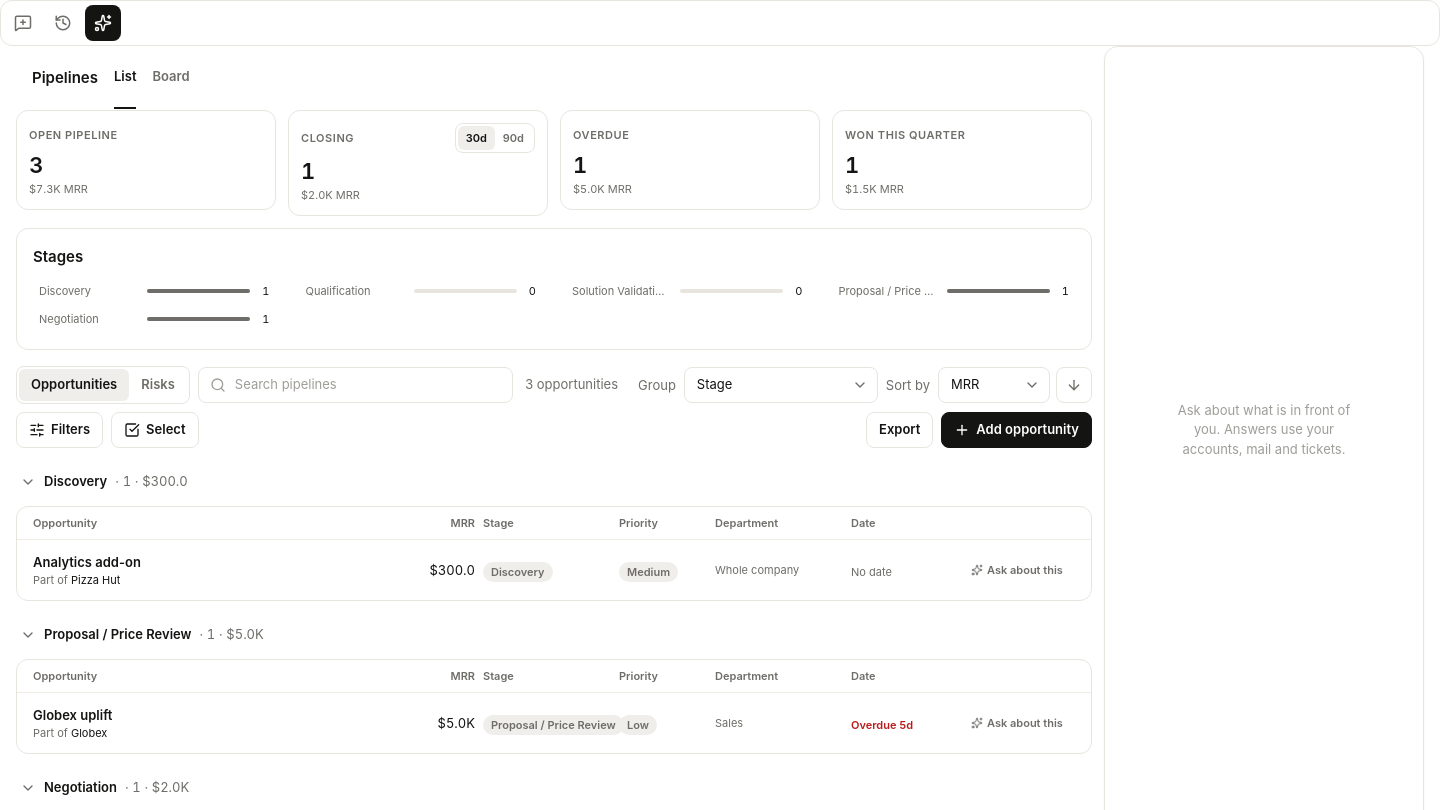
Test case: History on Pipelines › tags a risks conversation with the server's label and reopens it on the risks Board with its filters
What coordinates should you click on to do the following:
click the button named "History"
I would click on:
 (63, 23)
Its box is [45,5,81,41].
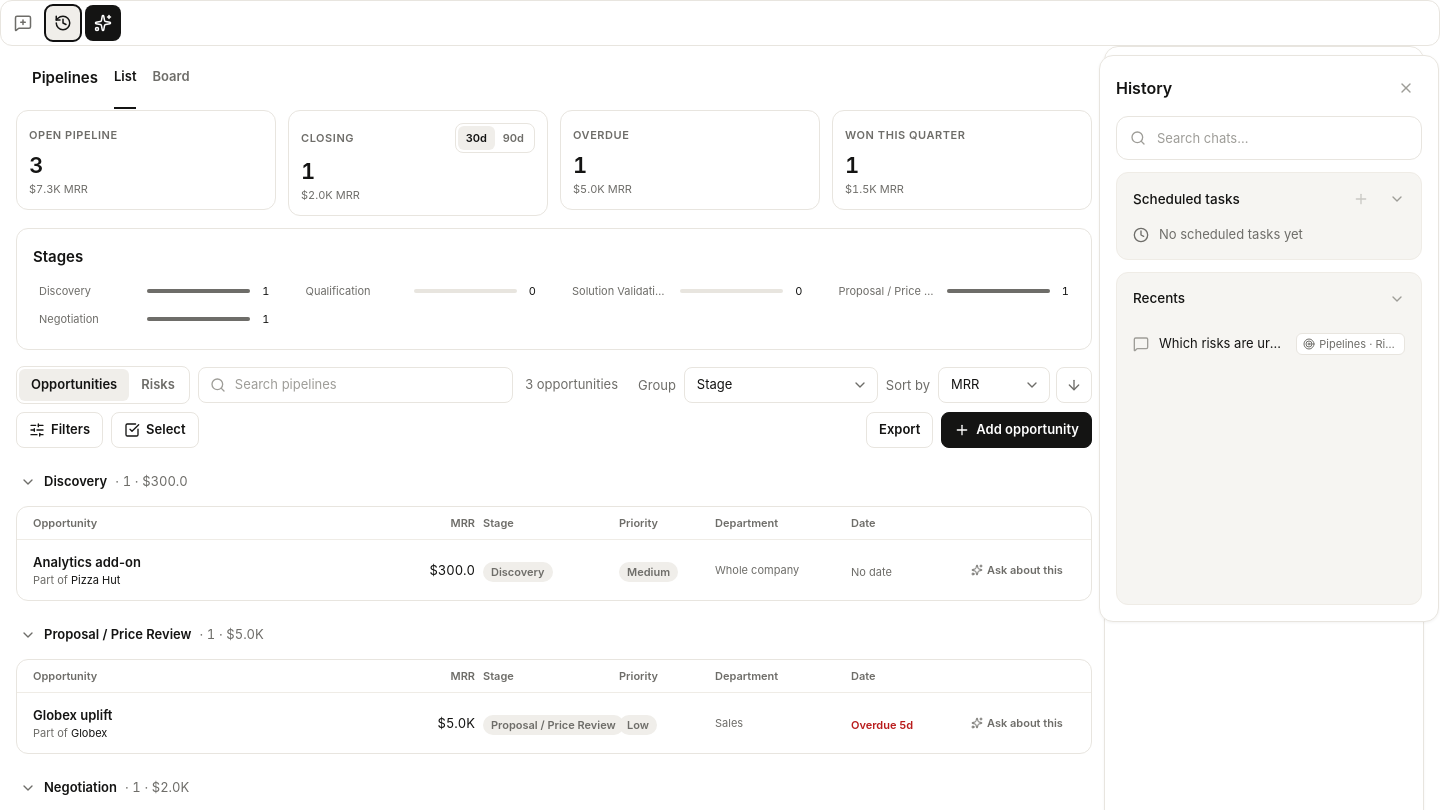
Now the text "Pipelines · Risks · Priority: High" is shown, box [1319,336,1398,352]
What coordinates should you click on to do the following:
click the button "Which risks are urgent? Pipelines · Risks · Priority: High"
I would click on:
 (1269, 344)
Its box is [1125,324,1413,363].
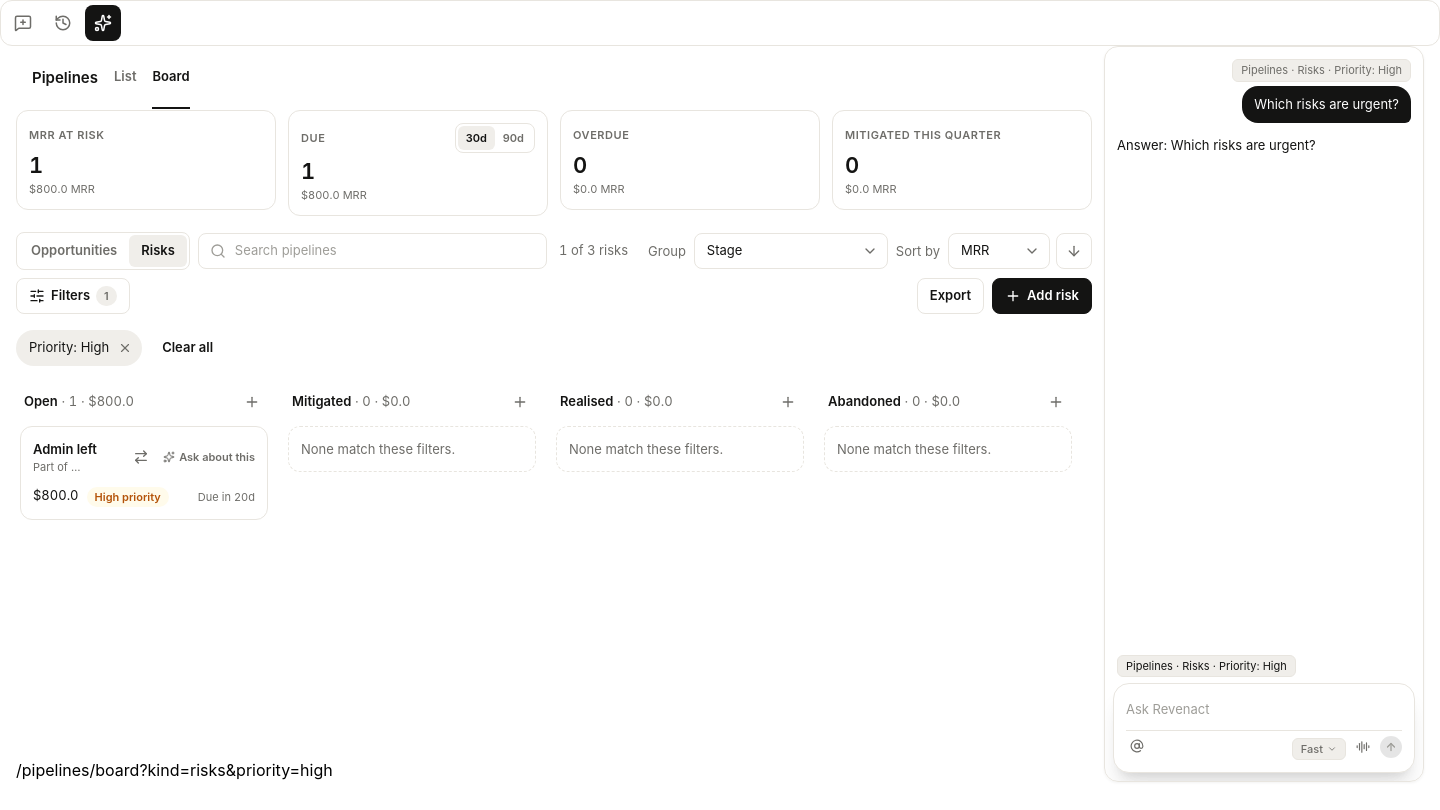
Now the text with test id "where" reads "/pipelines/board?kind=risks&priority=high", box [16,760,333,780]
Now the text "Answer: Which risks are urgent?" is shown, box [1117,135,1316,156]
Now the button "Admin left" is shown, box [33,439,97,459]
